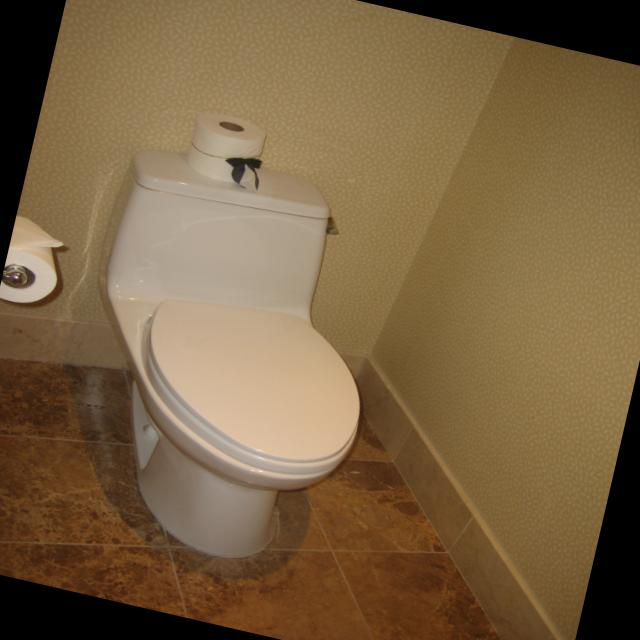Bow: (223, 156, 262, 191)
floor: (0, 435, 169, 544)
floor -X: (0, 357, 501, 640)
toilet: (152, 299, 358, 460)
toilet bowl: (98, 146, 363, 557)
toilet paper: (0, 216, 64, 303), (186, 113, 266, 182)
wall clock: (349, 37, 640, 640)
